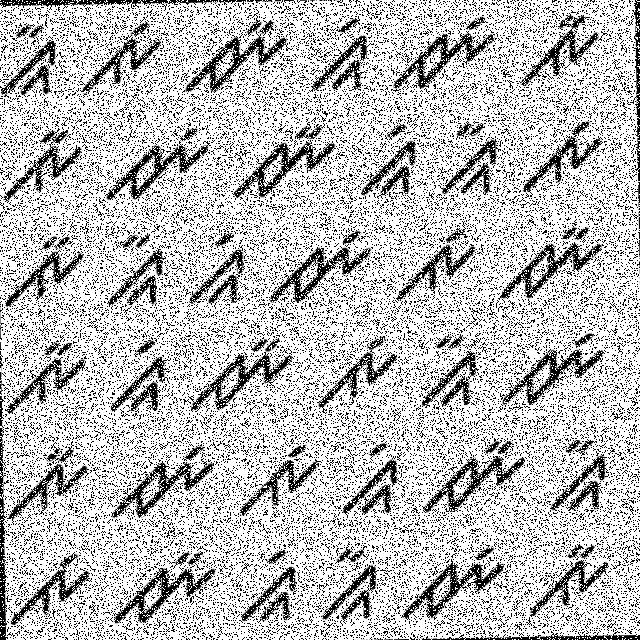an: (524, 532, 616, 618), (520, 2, 604, 94), (4, 230, 90, 316), (0, 121, 85, 208), (2, 338, 87, 418), (5, 443, 90, 522)
ang: (7, 544, 97, 638), (77, 15, 167, 106), (389, 223, 478, 308), (517, 116, 605, 200), (238, 438, 321, 522), (314, 332, 400, 412)
nggan: (412, 328, 483, 412), (436, 119, 506, 204), (101, 226, 168, 312), (0, 17, 64, 104), (320, 543, 385, 627), (546, 434, 608, 514)
nggang: (180, 227, 257, 311), (235, 539, 304, 631), (100, 334, 171, 421), (308, 13, 376, 96), (336, 438, 402, 518), (355, 122, 418, 202)
njan: (224, 116, 341, 209), (182, 330, 298, 421), (109, 540, 222, 630), (414, 430, 530, 516), (494, 219, 604, 309), (175, 10, 292, 94)
njang: (98, 112, 212, 210), (390, 7, 502, 98), (397, 538, 510, 628), (498, 328, 612, 413), (262, 223, 374, 309), (109, 436, 218, 521)
